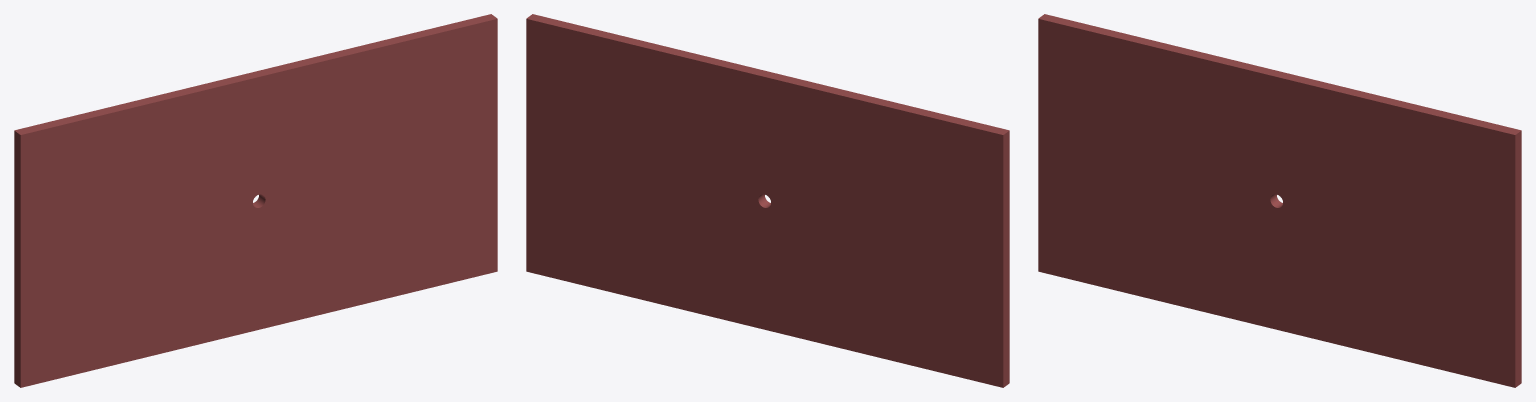
File: Hole_wall.fbx
3 renders of one model, left to right at view 1: azimuth 30°, elevation 25°; view 2: azimuth 150°, elevation 25°; view 3: azimuth 330°, elevation 25°, orthographic.
Parts seen in each view (by area): view 1: pCube2; view 2: pCube2; view 3: pCube2.
Boxes of the visible parts, <box> form: pCube2: <box>14,14,497,387</box>; pCube2: <box>526,14,1009,387</box>; pCube2: <box>1038,14,1521,387</box>.
Size of the model in its own units: 30.76 by 15.57 by 0.7222.
